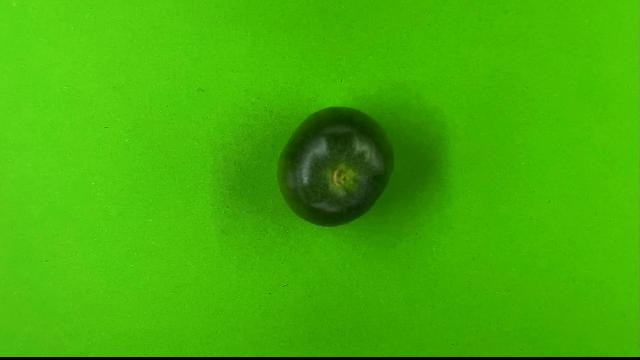Fruit Maturation: (275, 104, 397, 228)
